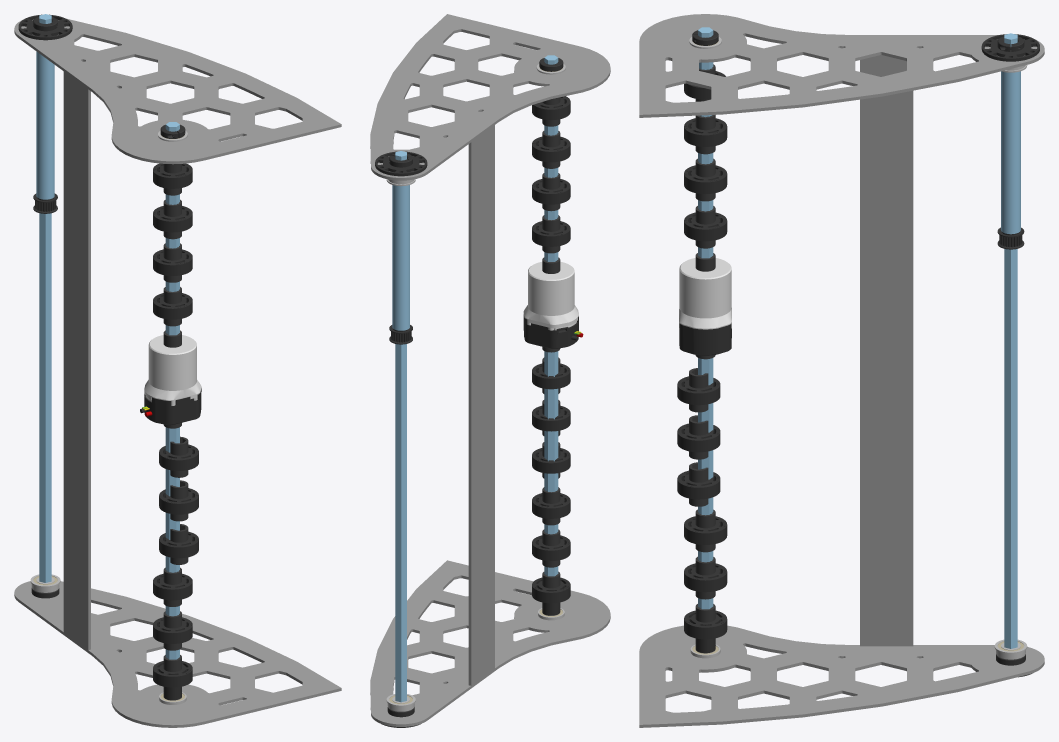
File: mate-intake.glb
3 views of the same model, side by side, from view 1: azimuth 30°, elevation 25°; view 2: azimuth 150°, elevation 25°; view 3: azimuth 270°, elevation 25° (orthographic). The views are drawn at different scales.
Parts seen in each view (by area): view 1: Intake plate (×2), Metal Plate(intake), 1.625" Flex Wheel (30A, 1/2" Wide, 1/2" Hex Bore) (×10), 1/2" Hex (26 in) (×2), id148, Part 1, SPARK Flex Brushless Motor Controller, 1/2" Hex Hub (1.125" OD, #8 Clearance, 0.5" WD, Aluminum); view 2: Intake plate (×2), Metal Plate(intake), 1.625" Flex Wheel (30A, 1/2" Wide, 1/2" Hex Bore) (×10), 1/2" Hex (26 in) (×2), id148, Part 1, SPARK Flex Brushless Motor Controller, 1/2" Hex Hub (1.125" OD, #8 Clearance, 0.5" WD, Aluminum); view 3: Intake plate (×2), Metal Plate(intake), 1.625" Flex Wheel (30A, 1/2" Wide, 1/2" Hex Bore) (×9), 1/2" Hex (26 in) (×2), id148, Part 1, SPARK Flex Brushless Motor Controller, 1/2" Hex Hub (1.125" OD, #8 Clearance, 0.5" WD, Aluminum).
Boxes of the visible parts, x1,y1,x2,y2 form: Intake plate (×2): (14,18,341,727); Metal Plate(intake): (63,71,90,650); 1.625" Flex Wheel (30A, 1/2" Wide, 1/2" Hex Bore) (×10): (153,163,198,687); 1/2" Hex (26 in) (×2): (39,14,179,659); id148: (144,335,201,405); Part 1: (36,51,54,199); SPARK Flex Brushless Motor Controller: (140,388,201,425); 1/2" Hex Hub (1.125" OD, #8 Clearance, 0.5" WD, Aluminum): (18,14,72,40); Intake plate (×2): (370,14,610,726); Metal Plate(intake): (468,125,494,685); 1.625" Flex Wheel (30A, 1/2" Wide, 1/2" Hex Bore) (×10): (532,96,570,603); 1/2" Hex (26 in) (×2): (395,55,558,702); id148: (523,261,578,330); Part 1: (392,185,409,330); SPARK Flex Brushless Motor Controller: (523,314,583,348); 1/2" Hex Hub (1.125" OD, #8 Clearance, 0.5" WD, Aluminum): (375,151,427,176); Intake plate (×2): (639,14,1044,727); Metal Plate(intake): (860,55,913,646); 1.625" Flex Wheel (30A, 1/2" Wide, 1/2" Hex Bore) (×9): (677,118,727,639); 1/2" Hex (26 in) (×2): (698,27,1017,648); id148: (679,258,731,329); Part 1: (1001,71,1020,234); SPARK Flex Brushless Motor Controller: (679,324,731,355); 1/2" Hex Hub (1.125" OD, #8 Clearance, 0.5" WD, Aluminum): (981,34,1039,61).
Bounding box in the file's own units: 0.2286 × 0.6741 × 0.388.
